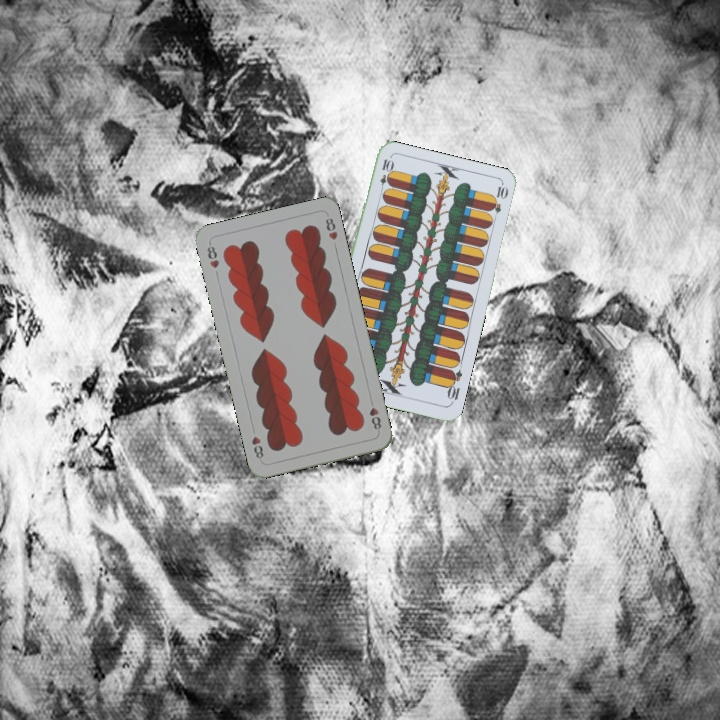E10: (443, 366, 465, 406), (376, 155, 394, 195)
H8: (203, 239, 222, 271), (365, 403, 384, 432)
